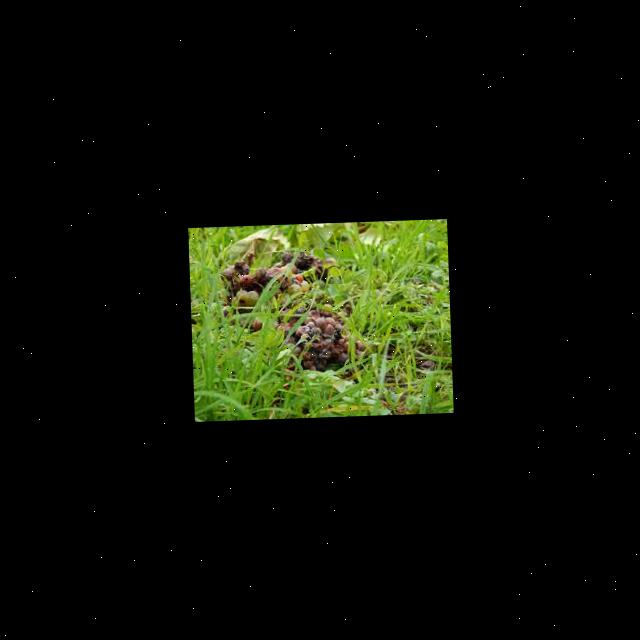grape: (219, 248, 366, 374)
